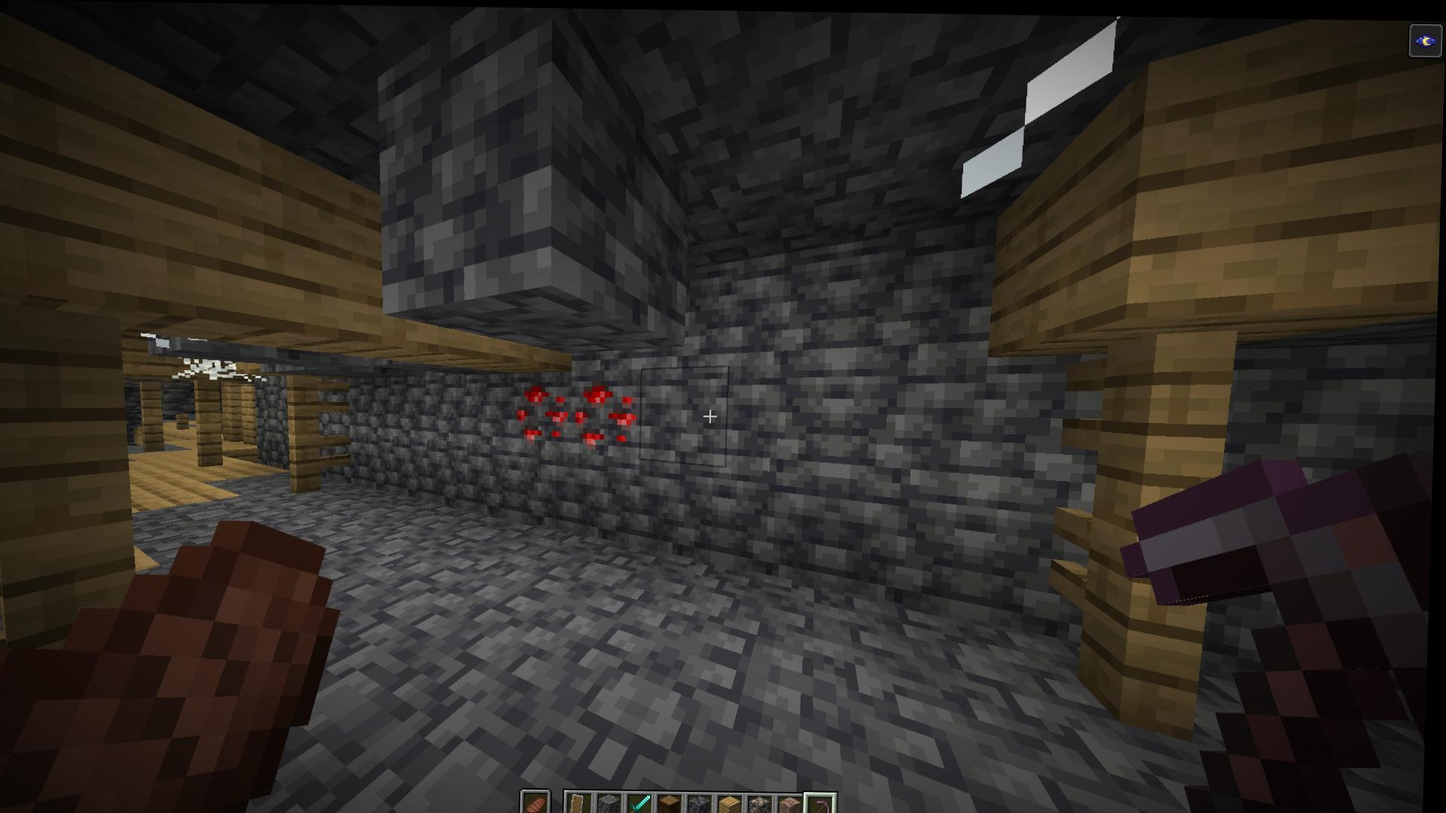redstone ore: (573, 376, 644, 451), (515, 379, 574, 447)
